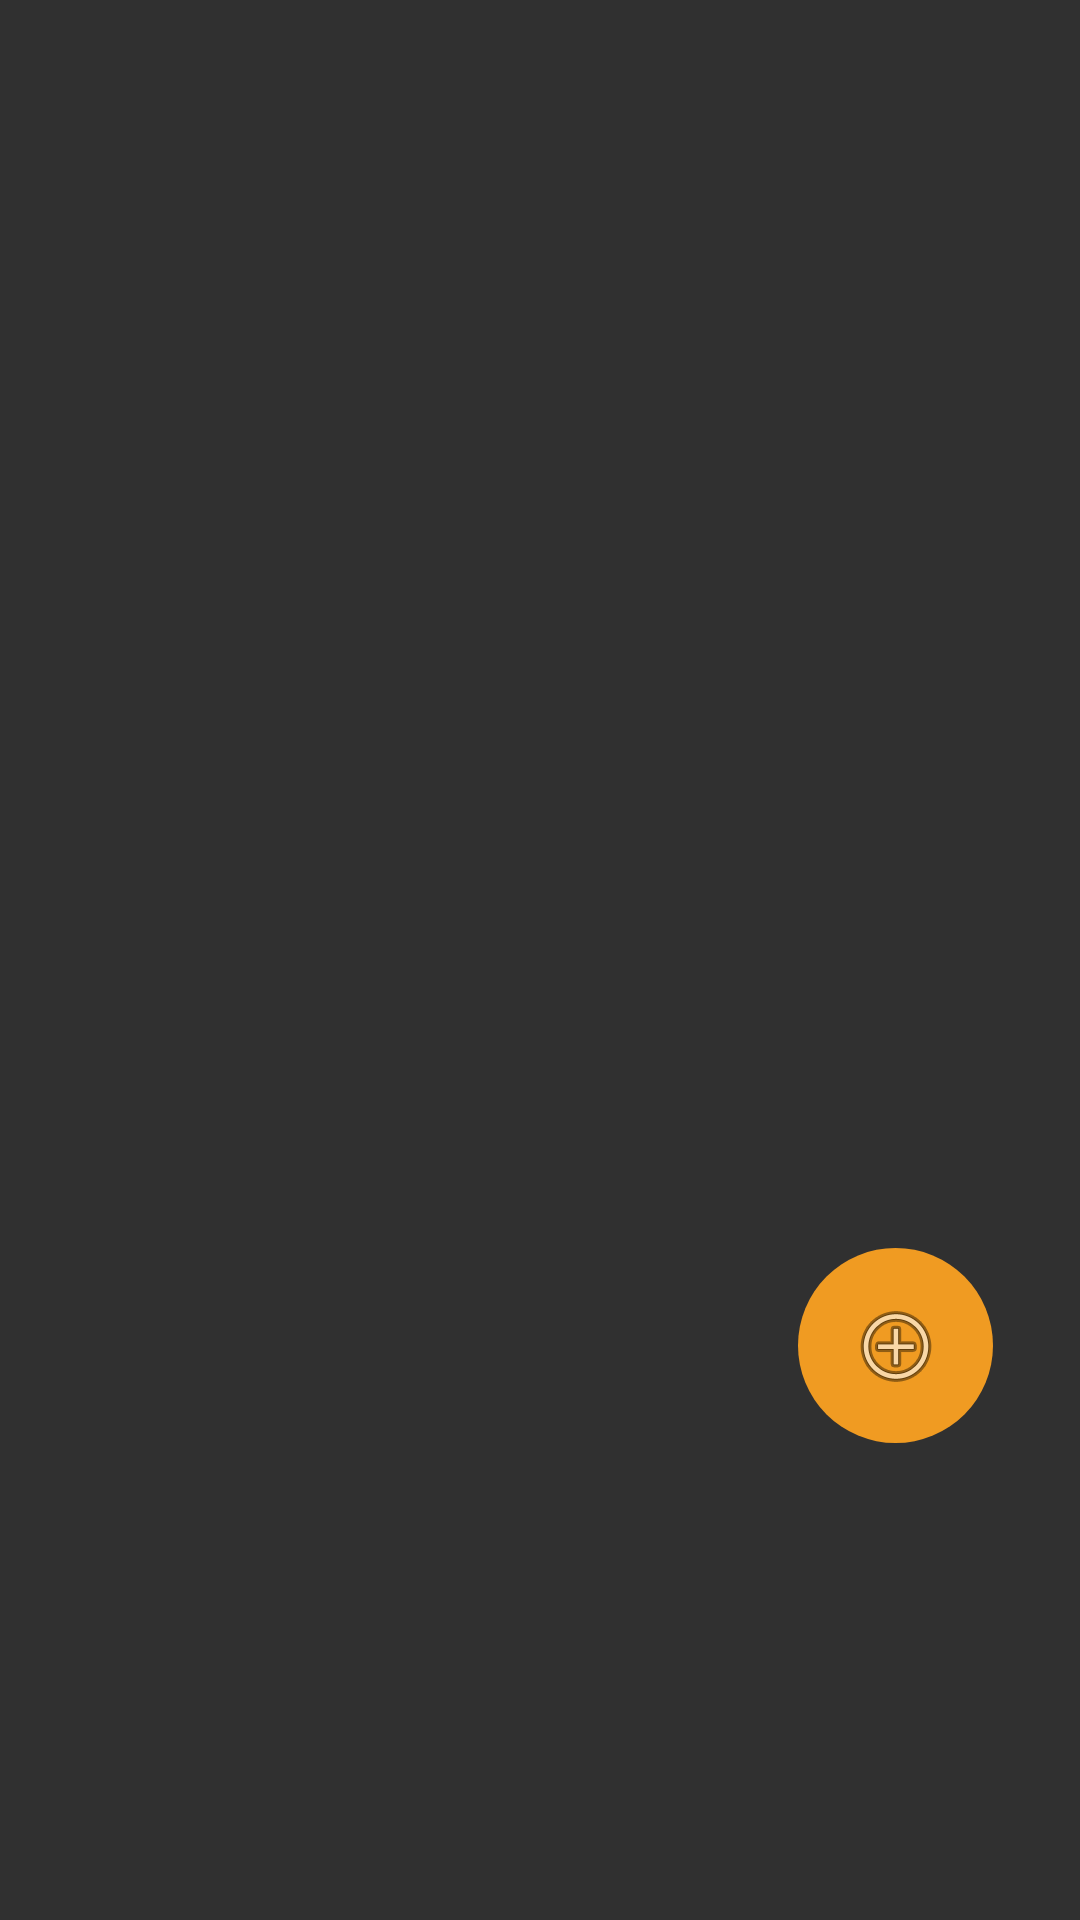

Screen size 1080*1920. Icon name, then its box in pixels as (x1, y1, x2, y2):
add: (798, 1248, 993, 1443)
